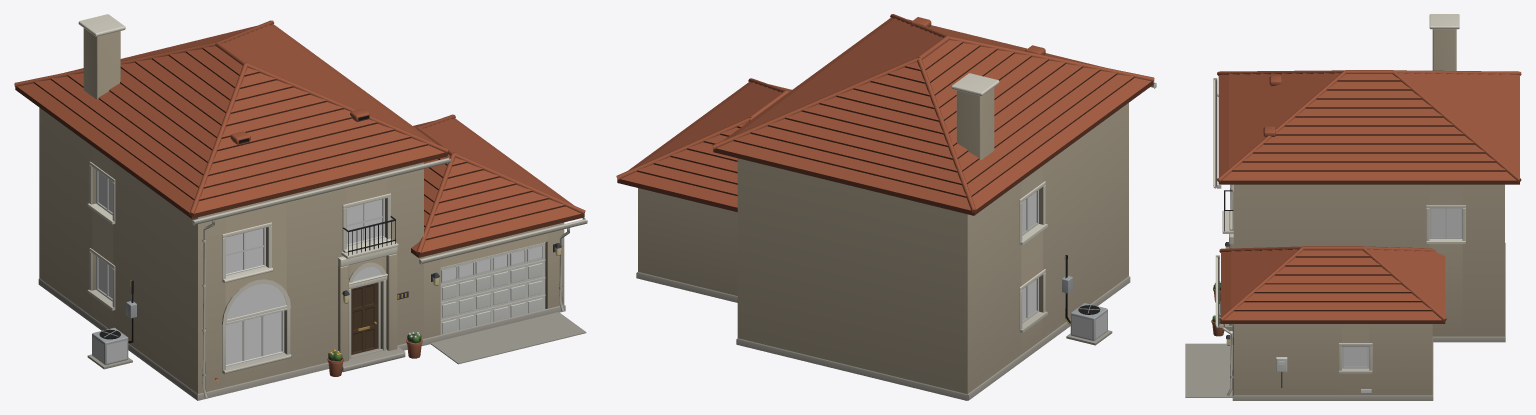
File: VillaStucco.fbx
3 renders of one model, left to right at view 1: azimuth 30°, elevation 25°; view 2: azimuth 150°, elevation 25°; view 3: azimuth 270°, elevation 25°, orthographic. The views are drawn at different scales.
Parts seen in each view (by area): view 1: VillaStucco; view 2: VillaStucco; view 3: VillaStucco.
Part boxes in pixels (box(x1,y1,x2,y2)): VillaStucco: box(14, 14, 587, 400); VillaStucco: box(616, 14, 1156, 400); VillaStucco: box(1185, 14, 1521, 400).
Size of the model in its own units: 13.74 by 8.76 by 11.15.
